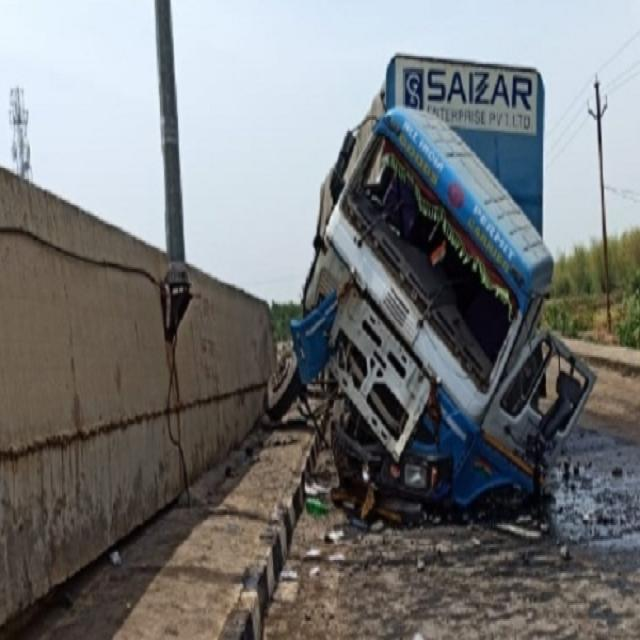accident: (268, 56, 595, 518)
